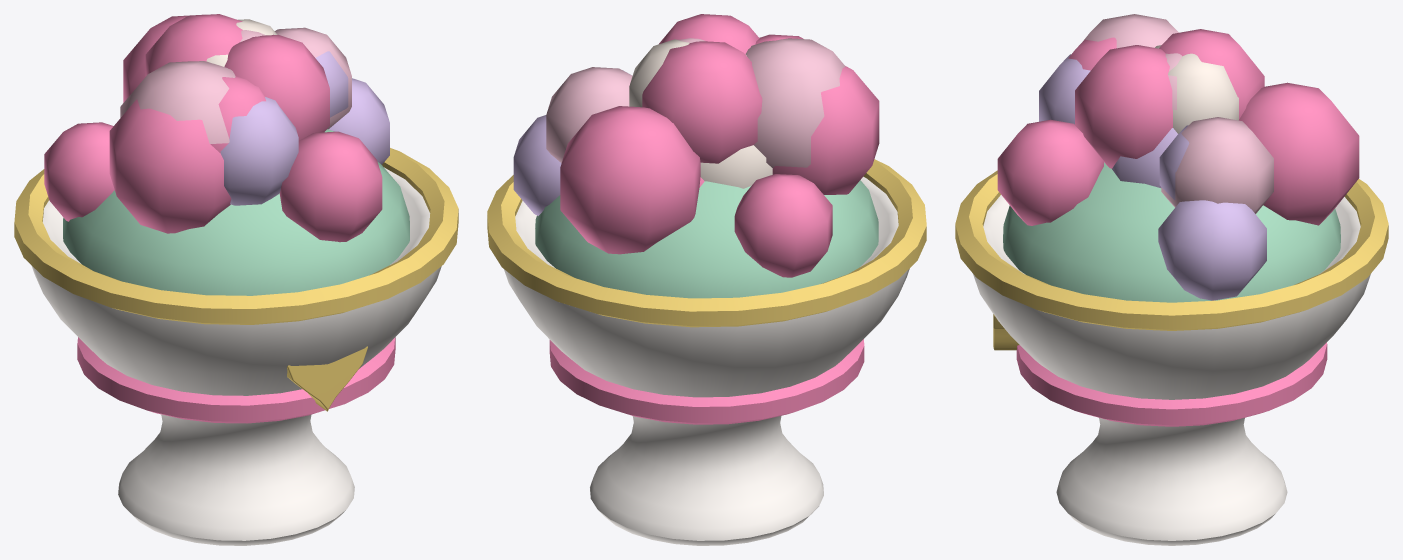
File: planter_round.glb
3 views of the same model, side by side, from view 1: azimuth 30°, elevation 25°; view 2: azimuth 150°, elevation 25°; view 3: azimuth 270°, elevation 25° (orthographic). The views are drawn at different scales.
Parts seen in each view (by area): view 1: planter_round; view 2: planter_round; view 3: planter_round.
Boxes of the visible parts, x1,y1,x2,y2 form: planter_round: (14, 14, 458, 545); planter_round: (487, 14, 926, 545); planter_round: (955, 14, 1388, 545).
Size of the model in its own units: 1.24 by 1.46 by 1.24.
